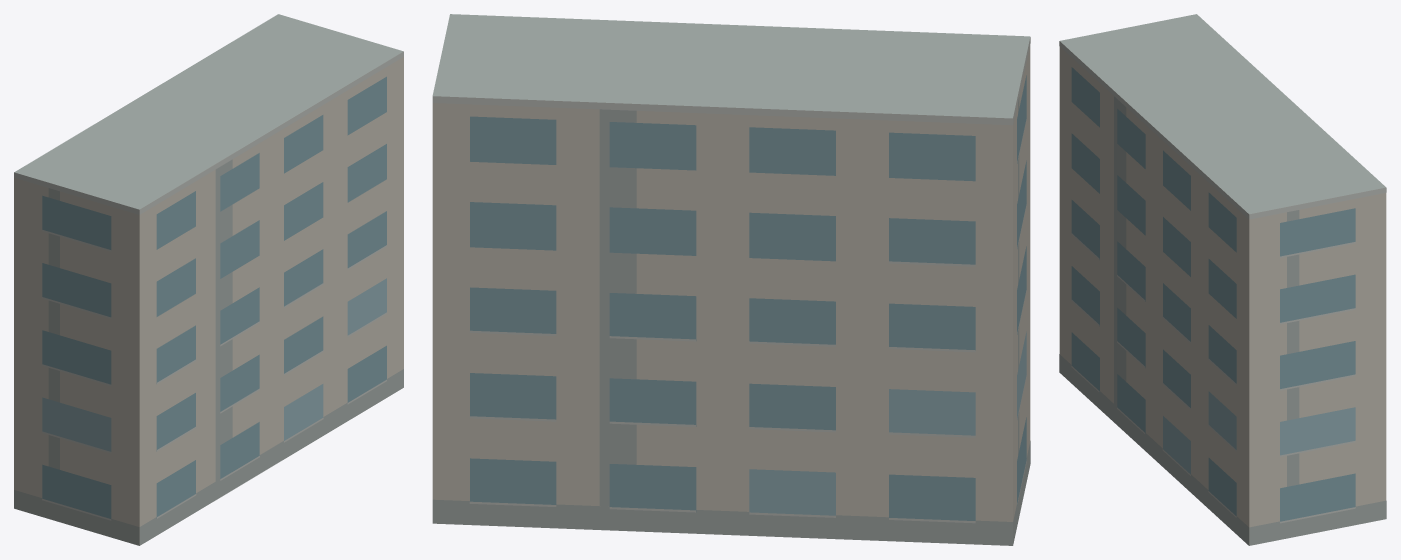
Rendered from residential-1c9e163a-ba89-416f-9e20-f6c4e31a7438.glb.
The picture shows the model from 3 angles, left to right: view 1: azimuth 30°, elevation 25°; view 2: azimuth 150°, elevation 25°; view 3: azimuth 270°, elevation 25°; orthographic projection. The views are drawn at different scales.
Visible parts, largest first — view 1: residential-1c9e163a-ba89-416f-9e20-f6c4e31a7438.tmp; view 2: residential-1c9e163a-ba89-416f-9e20-f6c4e31a7438.tmp; view 3: residential-1c9e163a-ba89-416f-9e20-f6c4e31a7438.tmp.
Boxes of the visible parts, box(x1,y1,x2,y2) form: residential-1c9e163a-ba89-416f-9e20-f6c4e31a7438.tmp: box(14, 14, 403, 545); residential-1c9e163a-ba89-416f-9e20-f6c4e31a7438.tmp: box(432, 14, 1030, 545); residential-1c9e163a-ba89-416f-9e20-f6c4e31a7438.tmp: box(1059, 14, 1386, 545).
Size of the model in its own units: 19.77 by 15.25 by 13.64.
